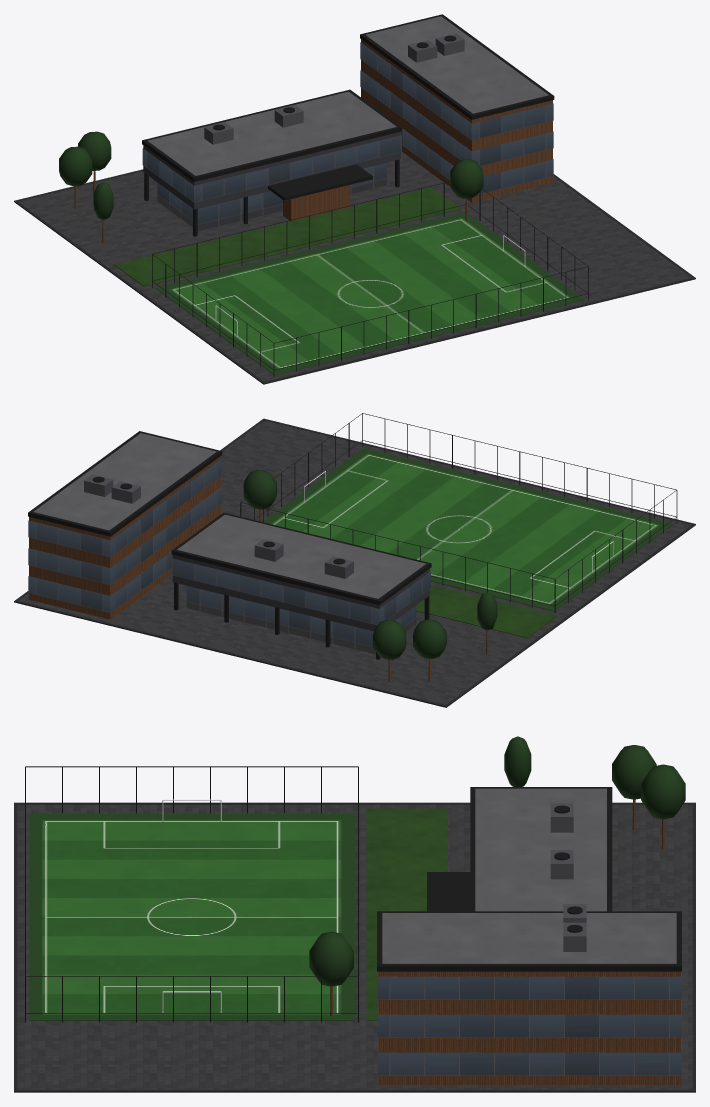
File: academy_L3.glb
3 views of the same model, one above another, from view 1: azimuth 30°, elevation 25°; view 2: azimuth 150°, elevation 25°; view 3: azimuth 270°, elevation 25° (orthographic). The views are drawn at different scales.
Visible parts, largest first — view 1: turf_acad_academy_L3, paving_academy_L3, emissive_curtain_academy_L3, roofing_academy_L3, black_metal_academy_L3, lawn_academy_L3, wood_academy_L3, foliage_academy_L3, concrete_dark_academy_L3, cladding_academy_L3, steel_academy_L3; view 2: turf_acad_academy_L3, paving_academy_L3, emissive_curtain_academy_L3, roofing_academy_L3, black_metal_academy_L3, wood_academy_L3, foliage_academy_L3, concrete_dark_academy_L3, lawn_academy_L3, cladding_academy_L3, steel_academy_L3; view 3: turf_acad_academy_L3, paving_academy_L3, roofing_academy_L3, emissive_curtain_academy_L3, wood_academy_L3, black_metal_academy_L3, lawn_academy_L3, foliage_academy_L3, concrete_dark_academy_L3, steel_academy_L3.
Part boxes in pixels (left/top/right/bottom): turf_acad_academy_L3: left=156, top=212, right=584, bottom=375; paving_academy_L3: left=18, top=152, right=691, bottom=381; emissive_curtain_academy_L3: left=142, top=42, right=553, bottom=231; roofing_academy_L3: left=147, top=16, right=548, bottom=175; black_metal_academy_L3: left=142, top=14, right=588, bottom=376; lawn_academy_L3: left=114, top=187, right=461, bottom=286; wood_academy_L3: left=74, top=39, right=552, bottom=243; foliage_academy_L3: left=59, top=131, right=483, bottom=219; concrete_dark_academy_L3: left=14, top=169, right=695, bottom=384; cladding_academy_L3: left=143, top=132, right=400, bottom=209; steel_academy_L3: left=204, top=33, right=464, bottom=144; turf_acad_academy_L3: left=263, top=448, right=672, bottom=611; paving_academy_L3: left=18, top=420, right=691, bottom=705; emissive_curtain_academy_L3: left=28, top=459, right=430, bottom=654; roofing_academy_L3: left=33, top=433, right=425, bottom=598; black_metal_academy_L3: left=28, top=413, right=677, bottom=659; wood_academy_L3: left=29, top=456, right=488, bottom=681; foliage_academy_L3: left=243, top=470, right=497, bottom=659; concrete_dark_academy_L3: left=14, top=418, right=695, bottom=707; lawn_academy_L3: left=416, top=585, right=557, bottom=638; cladding_academy_L3: left=172, top=555, right=430, bottom=631; steel_academy_L3: left=84, top=474, right=353, bottom=578; turf_acad_academy_L3: left=29, top=814, right=354, bottom=1020; paving_academy_L3: left=17, top=804, right=692, bottom=1089; roofing_academy_L3: left=382, top=788, right=676, bottom=963; emissive_curtain_academy_L3: left=377, top=971, right=681, bottom=1075; wood_academy_L3: left=330, top=799, right=680, bottom=1084; black_metal_academy_L3: left=25, top=766, right=681, bottom=1022; lawn_academy_L3: left=366, top=808, right=447, bottom=1020; foliage_academy_L3: left=309, top=736, right=685, bottom=986; concrete_dark_academy_L3: left=14, top=802, right=695, bottom=1092; steel_academy_L3: left=550, top=803, right=586, bottom=951.
Bounding box in the file's own units: 58.6 × 13.04 × 58.6.
12 materials, 7 textured.
